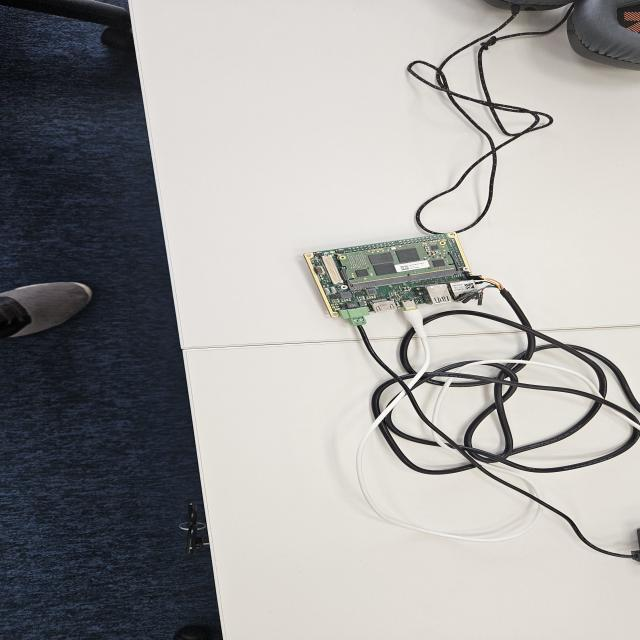som: (333, 235, 456, 295)
